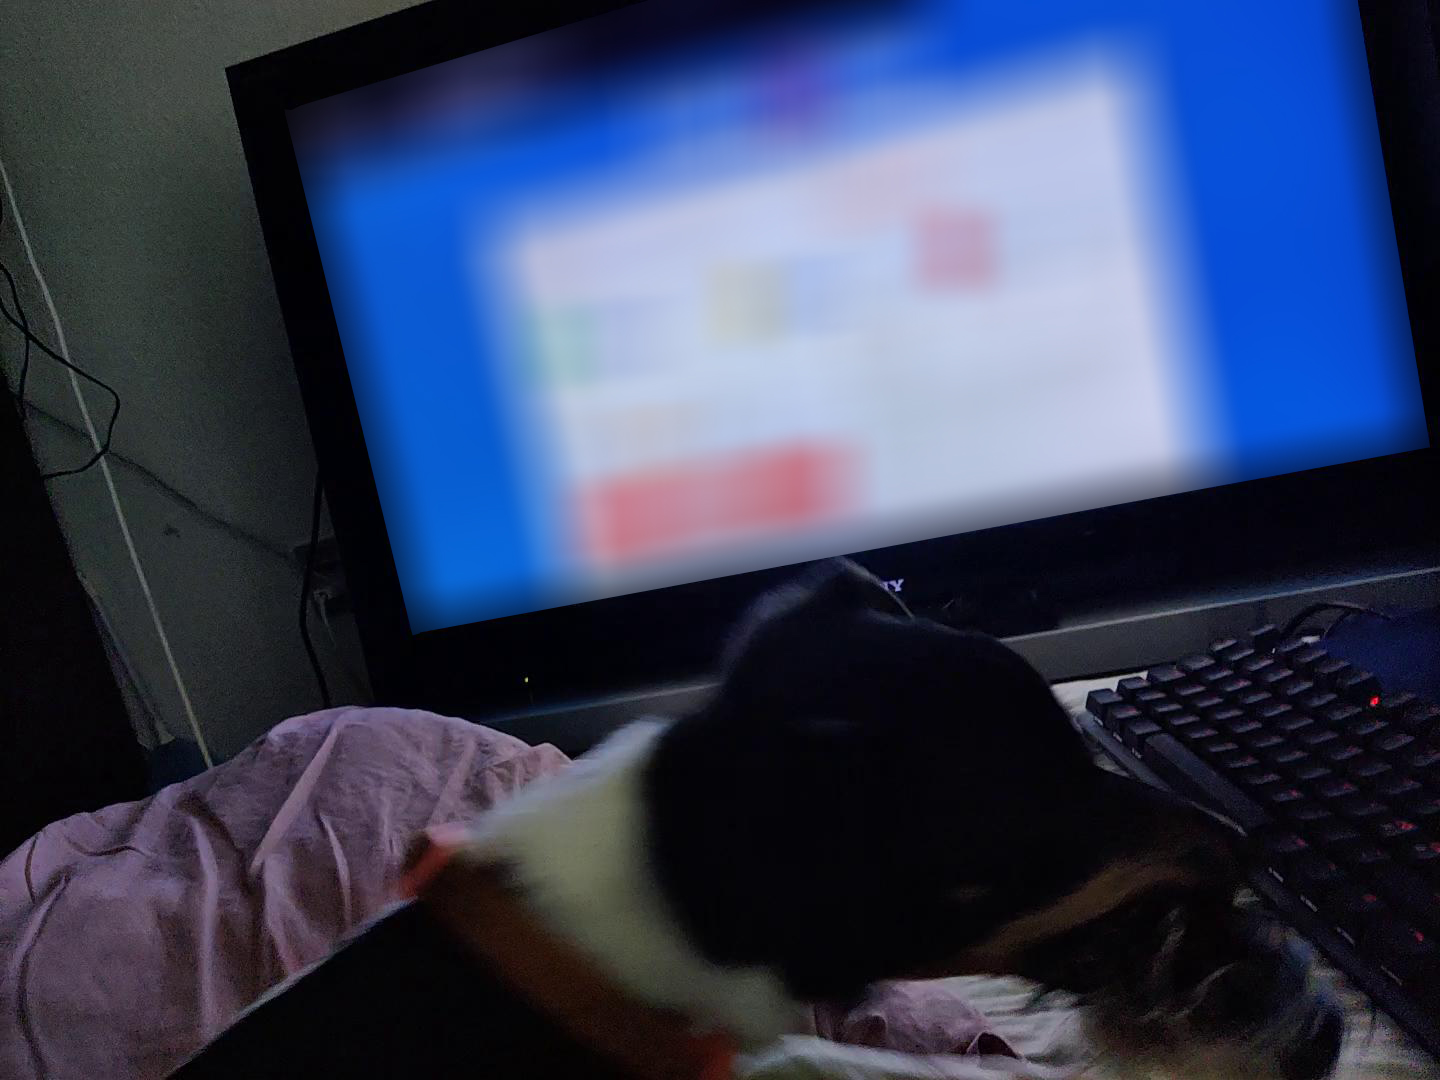Dog: (153, 557, 1256, 1079)
